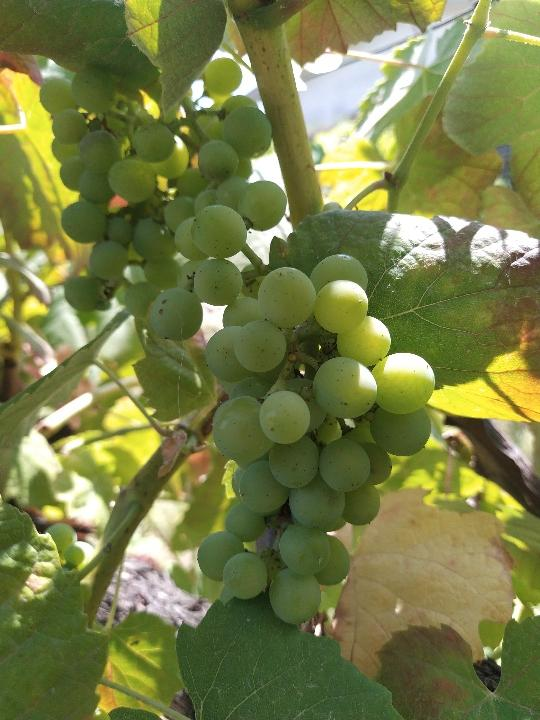grape: (147, 251, 441, 627)
